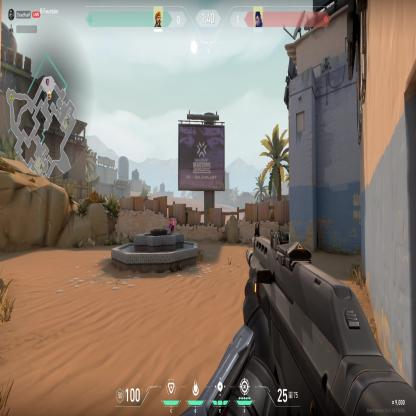enemy: (168, 215, 175, 233)
